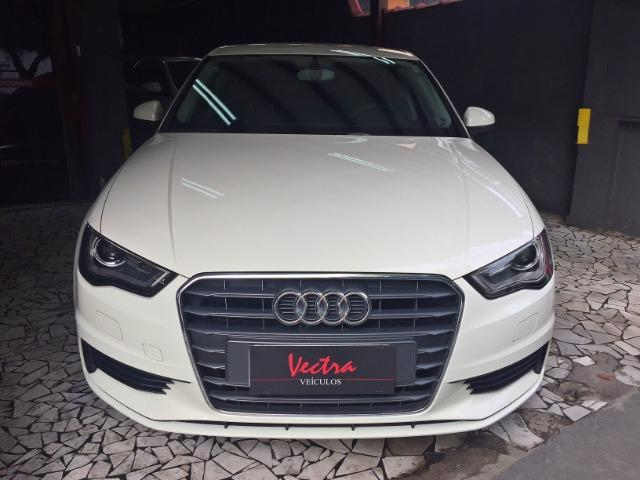audi: (266, 286, 381, 330)
